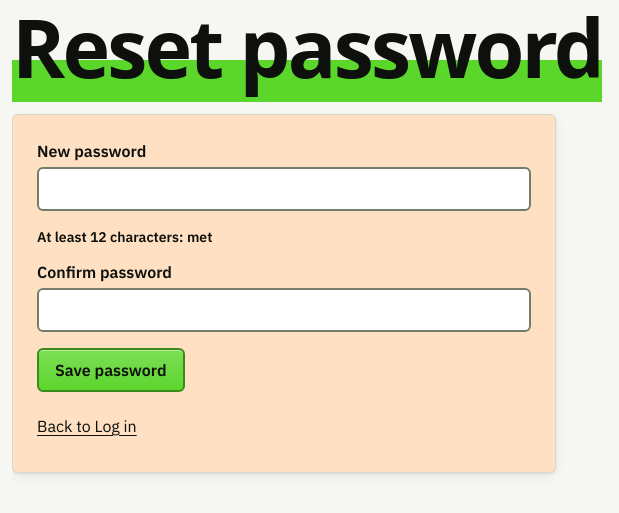
Scenario: reset password page › a link that is expired shows the message and a way to ask again
Type "copper-meadow-lantern-58" into the password field labelled "New password" at (284, 189), box 37,167 -> 531,211
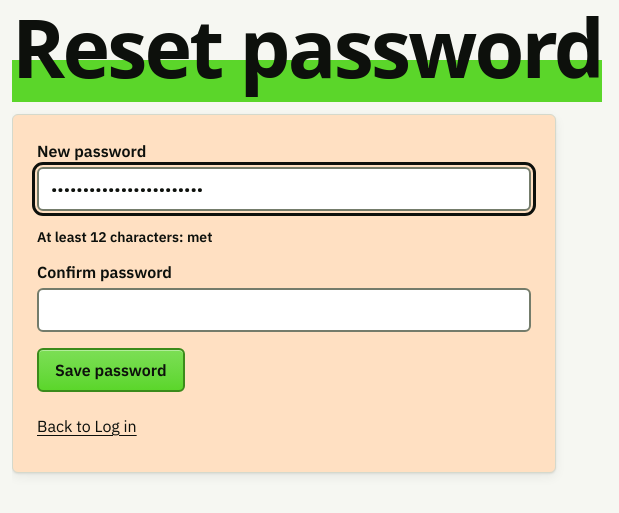
Type "copper-meadow-lantern-58" into the password field labelled "Confirm password" at (284, 310), box 37,288 -> 531,332
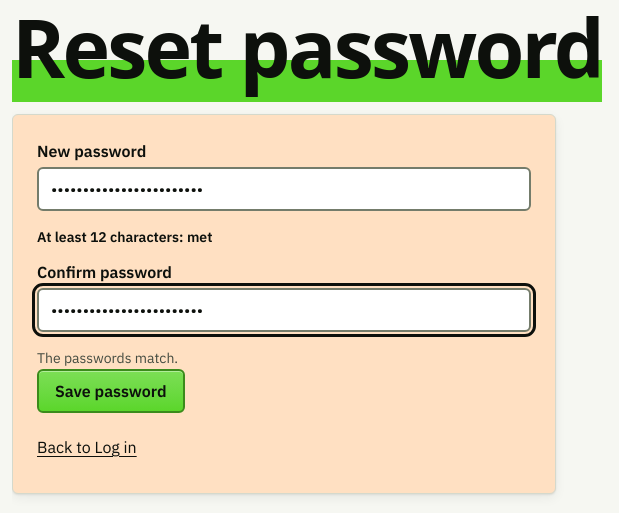
Click the button "Save password" at (111, 391), box 37,369 -> 185,413
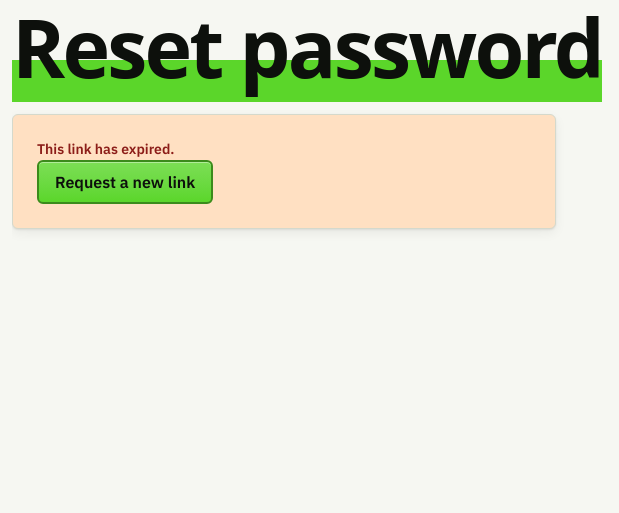
Check: the message reads "This link has expired.", box 37,140 -> 174,158
Check: the label labelled "New password" is gone
